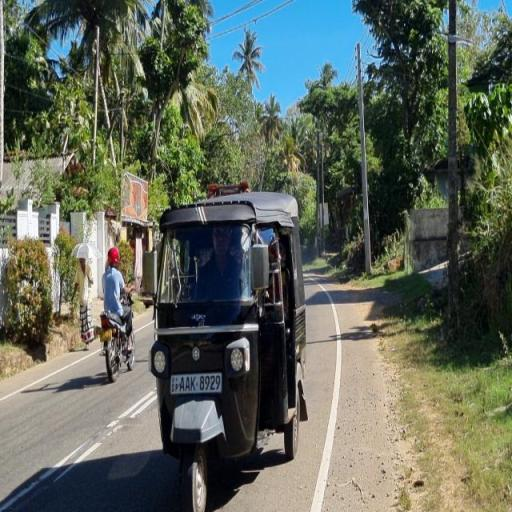double_white_line: (104, 387, 154, 438)
